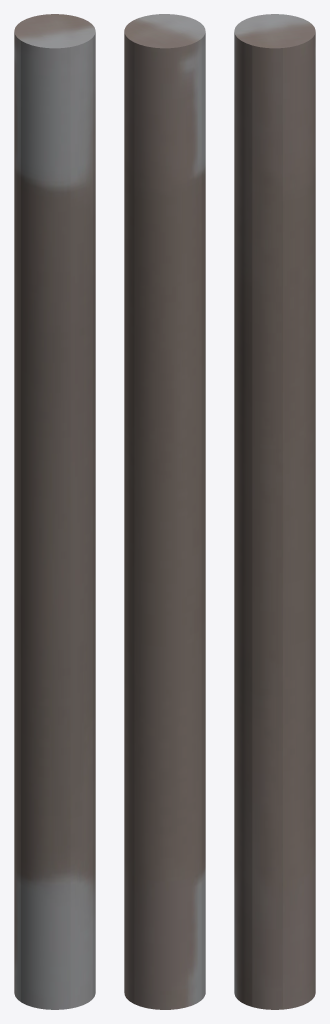
Rendered from support_arm__top_roller.glb.
3 renders of one model, left to right at view 1: azimuth 90°, elevation 25°; view 2: azimuth 210°, elevation 25°; view 3: azimuth 270°, elevation 25°, orthographic.
Parts seen in each view (by area): view 1: geometry_0; view 2: geometry_0; view 3: geometry_0.
Boxes of the visible parts, x1,y1,x2,y2 form: geometry_0: (14,14,95,1009); geometry_0: (124,14,205,1009); geometry_0: (234,14,315,1009).
Size of the model in its own units: 0.028 by 0.365 by 0.028.
1 material, 1 textured.
